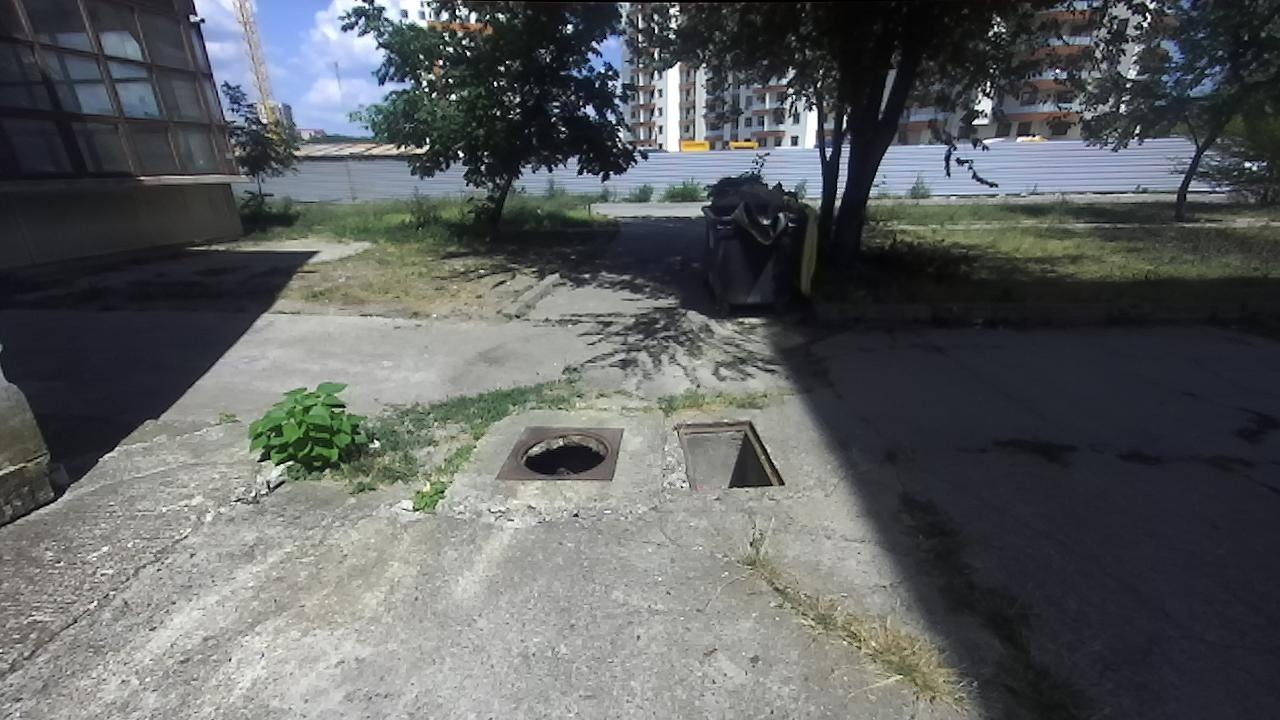drain: (669, 417, 788, 492), (506, 424, 611, 476)
